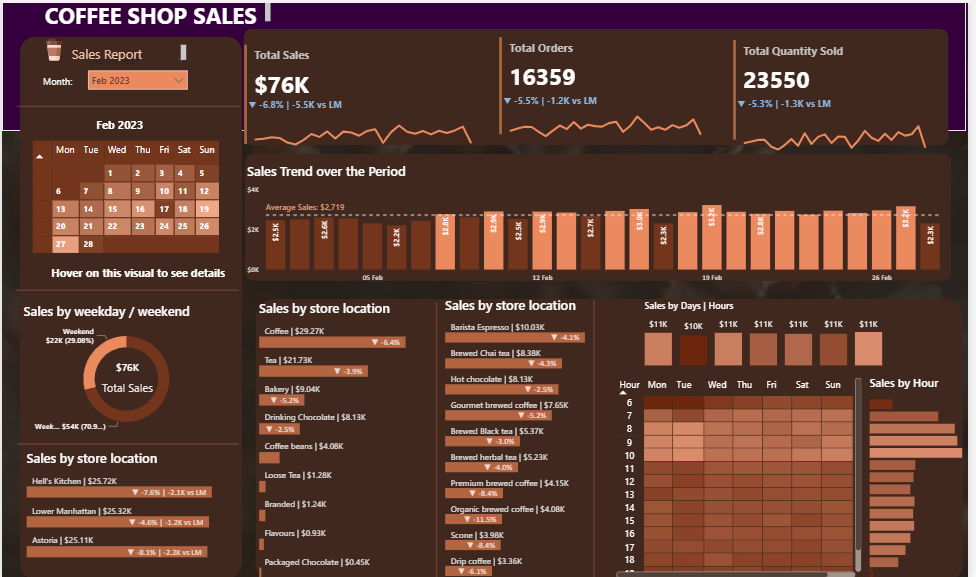

The page's visual inventory and layout, read from the dashboard file:
{"tool":"powerbi","page":{"name":"Page 1","canvas":[1400,850],"ordinal":0},"visuals":[{"type":"group","id":"g1","title":"Group 1","box":[346.1,64.8,348.4,161.2],"z":0,"group":"g4"},{"type":"shape","box":[367,439.8,1025.3,410.7],"z":0},{"type":"shape","box":[0,0,1398.7,196.4],"z":1000},{"type":"group","id":"g2","title":"Group 1","box":[715.2,55,310.9,167.2],"z":1000,"group":"g4"},{"type":"shape","box":[26.8,58.1,321.7,786.4],"z":2000},{"type":"group","id":"g3","title":"Group 1","box":[1054.8,58.7,299.2,170.1],"z":2000,"group":"g4"},{"type":"shape","box":[350.4,47.2,1021.9,168.5],"z":3000},{"type":"textbox","box":[55.9,0,337.3,46.9],"z":4000},{"type":"cardVisual","fields":{"Data":["Transactions.Total Orders"]},"box":[715.2,55,284.2,151.1],"z":5000,"group":"g7"},{"type":"cardVisual","fields":{"Data":["Transactions.Total Quantity Sold"]},"box":[1054.8,58.7,292,154.5],"z":5000,"group":"g8"},{"type":"cardVisual","fields":{"Data":["Transactions.Total Sales"]},"box":[346.1,64.8,342,154.4],"z":5000,"group":"g1"},{"type":"slicer","fields":{"Values":["Date Table.Month Year"]},"box":[119.4,84.5,154.4,67],"z":5000},{"type":"group","id":"g4","title":"Group 5","box":[346.1,55,1007.9,173.8],"z":6000},{"type":"lineChart","fields":{"Y":["Transactions.Total Orders"],"Category":["Date Table.Date.Variation.Date Hierarchy.Year","Date Table.Date.Variation.Date Hierarchy.Quarter","Date Table.Date.Variation.Date Hierarchy.Month","Date Table.Date.Variation.Date Hierarchy.Day"]},"box":[720.9,142.3,305.2,79.9],"z":6000,"group":"g7"},{"type":"lineChart","fields":{"Y":["Transactions.Total Quantity Sold"],"Category":["Date Table.Date.Variation.Date Hierarchy.Year","Date Table.Date.Variation.Date Hierarchy.Quarter","Date Table.Date.Variation.Date Hierarchy.Month","Date Table.Date.Variation.Date Hierarchy.Day"]},"box":[1062.4,144.8,291.6,84],"z":6000,"group":"g8"},{"type":"lineChart","fields":{"Y":["Transactions.Total Sales"],"Category":["Date Table.Date.Variation.Date Hierarchy.Year","Date Table.Date.Variation.Date Hierarchy.Quarter","Date Table.Date.Variation.Date Hierarchy.Month","Date Table.Date.Variation.Date Hierarchy.Day"]},"box":[352.5,147.5,342,78.5],"z":6000,"group":"g1"},{"type":"group","id":"g5","title":"Group 2","box":[715.2,55,310.9,167.2],"z":6003,"group":"g2"},{"type":"group","id":"g6","title":"Group 2","box":[1054.8,58.7,299.2,170.1],"z":6003,"group":"g3"},{"type":"group","id":"g7","title":"Group 3","box":[715.2,55,310.9,167.2],"z":6005,"group":"g5"},{"type":"group","id":"g8","title":"Group 4","box":[1054.8,58.7,299.2,170.1],"z":6005,"group":"g6"},{"type":"pivotTable","fields":{"Rows":["Date Table.Week Number"],"Columns":["Date Table.Day Name"],"Values":["Min(Date Table.Day Number)"]},"box":[38.2,204.4,289.7,186.4],"z":7000},{"type":"cardVisual","fields":{"Data":["Min(Date Table.Month Year)"]},"box":[119,150.5,121.3,51.7],"z":8000},{"type":"cardVisual","fields":{"Data":["Transactions.Foot Note"]},"box":[53.9,366.1,289.7,51.7],"z":9000},{"type":"shape","box":[20.2,415.5,323.4,22.5],"z":10000},{"type":"shape","box":[22.5,150.5,323.4,20.2],"z":11000},{"type":"donutChart","title":"Sales by weekday / weekend","fields":{"Category":["Date Table.weekday / weekend"],"Y":["Transactions.Total Sales"]},"box":[27,442.5,307.7,197.6],"z":12000},{"type":"card","fields":{"Values":["Transactions.Total Sales"]},"box":[114.5,516.6,132.5,67.4],"z":13000},{"type":"shape","box":[22.5,640.1,321.2,20.2],"z":14000},{"type":"clusteredBarChart","title":" Sales by store location","fields":{"Category":["Transactions.store_location"],"Y":["Transactions.placeholder","Transactions.Total Sales"]},"box":[31.4,655.8,307.7,164],"z":15000},{"type":"shape","box":[352,228.8,1023.6,184.8],"z":16000},{"type":"columnChart","title":"Sales Trend over the Period","fields":{"Category":["Transactions.transaction_date"],"Y":["Transactions.Total Sales"]},"box":[349,240.5,1014.8,181.8],"z":17000},{"type":"clusteredBarChart","title":" Sales by store location","fields":{"Y":["Transactions.placeholder","Transactions.Total Sales"],"Category":["Transactions.product_category"]},"box":[366.5,438.9,247.7,411.1],"z":18000},{"type":"clusteredBarChart","title":" Sales by store location","fields":{"Y":["Transactions.placeholder","Transactions.Total Sales"],"Category":["Transactions.product_type"]},"box":[636.7,435.6,248,411.1],"z":19000},{"type":"shape","box":[844.5,442.3,29,404.4],"z":20000},{"type":"shape","box":[614.6,442.7,29.1,404.9],"z":21000},{"type":"pivotTable","fields":{"Rows":["Transactions.Hour"],"Columns":["Date Table.Day Name"],"Values":["Transactions.Total Sales"]},"box":[885.1,548.7,365.8,300.5],"z":22000},{"type":"barChart","title":"Sales by Hour","fields":{"Category":["Transactions.Hour"],"Y":["Transactions.Total Sales"]},"box":[1252.5,550.5,148.5,300],"z":23000},{"type":"columnChart","title":"Sales by Days | Hours","fields":{"Category":["Date Table.Day Name"],"Y":["Transactions.Total Sales"]},"box":[926.2,439.8,355.3,101.9],"z":24000},{"type":"textbox","box":[55.3,107.8,64.1,29.1],"z":25000},{"type":"textbox","box":[96.1,64.8,176.5,33.5],"z":26000},{"type":"image","box":[53.6,46.9,42.4,60.3],"z":27000}]}

Visuals, with their boxes in screenshot pixels (x1, y1, x2, y2), scaled from the page's 1400x850 canvas onto the 976x577 screenshot:
"Group 1" group: 241,44,484,153
shape: 256,299,971,576
shape: 0,0,975,133
"Group 1" group: 499,37,715,151
shape: 19,39,243,573
"Group 1" group: 735,40,944,155
shape: 244,32,957,146
textbox: 39,0,274,32
cardVisual - Transactions.Total Orders: 499,37,697,140
cardVisual - Transactions.Total Quantity Sold: 735,40,939,145
cardVisual - Transactions.Total Sales: 241,44,480,149
slicer - Date Table.Month Year: 83,57,191,103
"Group 5" group: 241,37,944,155
lineChart - Transactions.Total Orders x Date Table.Date.Variation.Date Hierarchy.Year: 503,97,715,151
lineChart - Transactions.Total Quantity Sold x Date Table.Date.Variation.Date Hierarchy.Year: 741,98,944,155
lineChart - Transactions.Total Sales x Date Table.Date.Variation.Date Hierarchy.Year: 246,100,484,153
"Group 2" group: 499,37,715,151
"Group 2" group: 735,40,944,155
"Group 3" group: 499,37,715,151
"Group 4" group: 735,40,944,155
pivotTable - Date Table.Week Number x Date Table.Day Name: 27,139,229,265
cardVisual - Min(Date Table.Month Year): 83,102,168,137
cardVisual - Transactions.Foot Note: 38,249,240,284
shape: 14,282,240,297
shape: 16,102,241,116
"Sales by weekday / weekend" donutChart: 19,300,233,435
card - Transactions.Total Sales: 80,351,172,396
shape: 16,435,240,448
" Sales by store location" clusteredBarChart: 22,445,236,556
shape: 245,155,959,281
"Sales Trend over the Period" columnChart: 243,163,951,287
" Sales by store location" clusteredBarChart: 256,298,428,576
" Sales by store location" clusteredBarChart: 444,296,617,575
shape: 589,300,609,575
shape: 428,301,449,575
pivotTable - Transactions.Hour x Date Table.Day Name: 617,372,872,576
"Sales by Hour" barChart: 873,374,975,576
"Sales by Days | Hours" columnChart: 646,299,893,368
textbox: 39,73,83,93
textbox: 67,44,190,67
image: 37,32,67,73
